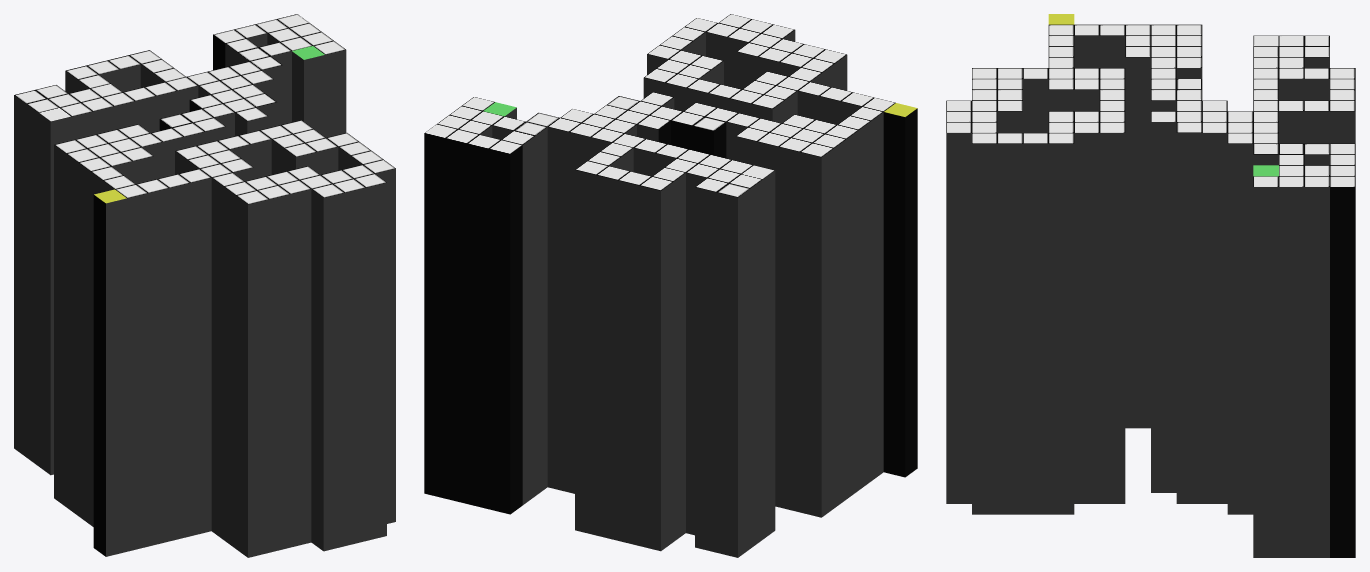
The model's file is bloxorplatform.glb.
3 views of the same model, side by side, from view 1: azimuth 30°, elevation 25°; view 2: azimuth 150°, elevation 25°; view 3: azimuth 270°, elevation 25° (orthographic). The views are drawn at different scales.
Parts seen in each view (by area): view 1: Plane; view 2: Plane; view 3: Plane.
Boxes of the visible parts, bbox=[...] form: Plane: bbox=[14, 14, 395, 557]; Plane: bbox=[424, 14, 917, 557]; Plane: bbox=[946, 14, 1355, 557].
Bounding box in the file's own units: 1 × 1 × 1.
Materials: 4 (1 with a texture image).
